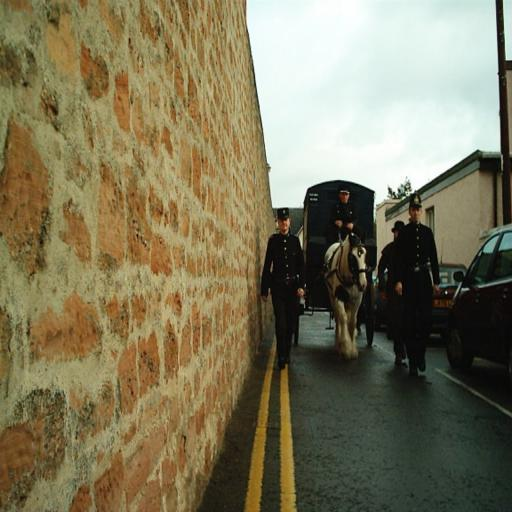horse: (318, 222, 371, 360)
